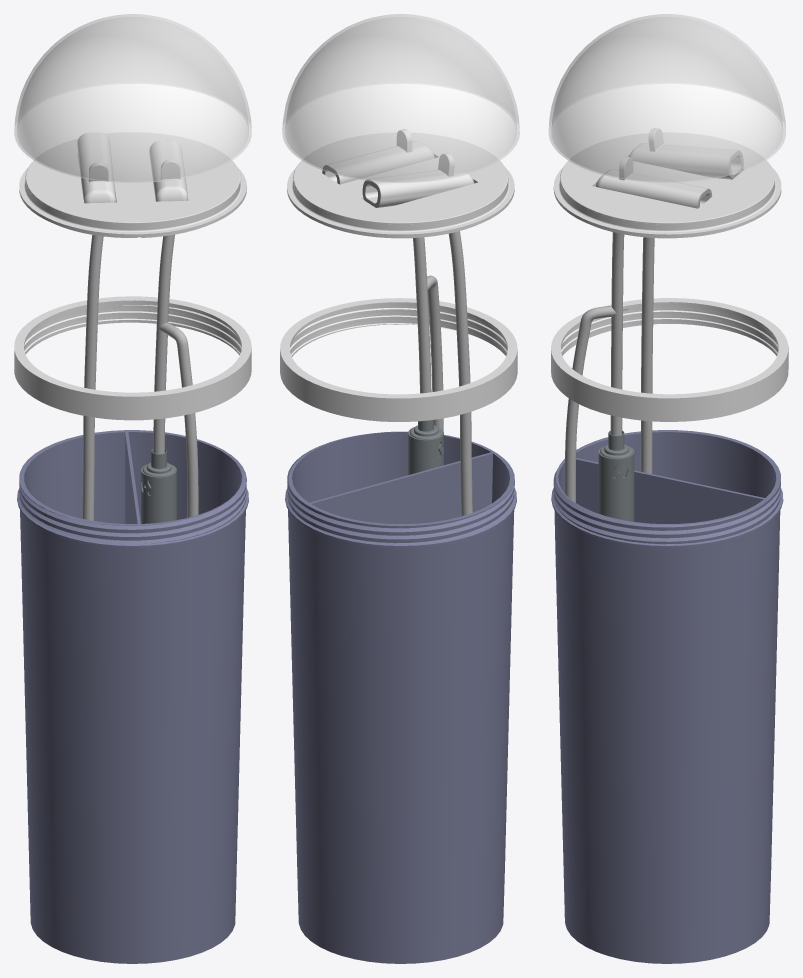
File: myassembly.glb
3 renders of one model, left to right at view 1: azimuth 30°, elevation 25°; view 2: azimuth 150°, elevation 25°; view 3: azimuth 270°, elevation 25°, orthographic.
Visible parts, largest first — view 1: Solid1 (×5), Solid3, Solid5, Solid2, Solid9, Solid13; view 2: Solid1 (×5), Solid3, Solid5, Solid2, Solid9; view 3: Solid1 (×5), Solid3, Solid5, Solid2, Solid9, Solid13.
Boxes of the visible parts, <box> form: Solid1 (×5): <box>14,14,251,963</box>; Solid3: <box>19,132,246,237</box>; Solid5: <box>14,296,251,420</box>; Solid2: <box>82,235,103,520</box>; Solid9: <box>141,464,176,523</box>; Solid13: <box>142,449,175,494</box>; Solid1 (×5): <box>282,14,519,963</box>; Solid3: <box>287,132,514,238</box>; Solid5: <box>280,298,517,421</box>; Solid2: <box>448,231,472,515</box>; Solid9: <box>408,427,443,474</box>; Solid1 (×5): <box>548,14,785,963</box>; Solid3: <box>553,132,781,238</box>; Solid5: <box>551,298,788,421</box>; Solid2: <box>640,237,654,473</box>; Solid9: <box>598,446,634,521</box>; Solid13: <box>600,430,632,477</box>.
Bounding box in the file's own units: 0.0734 × 0.3035 × 0.0737.
